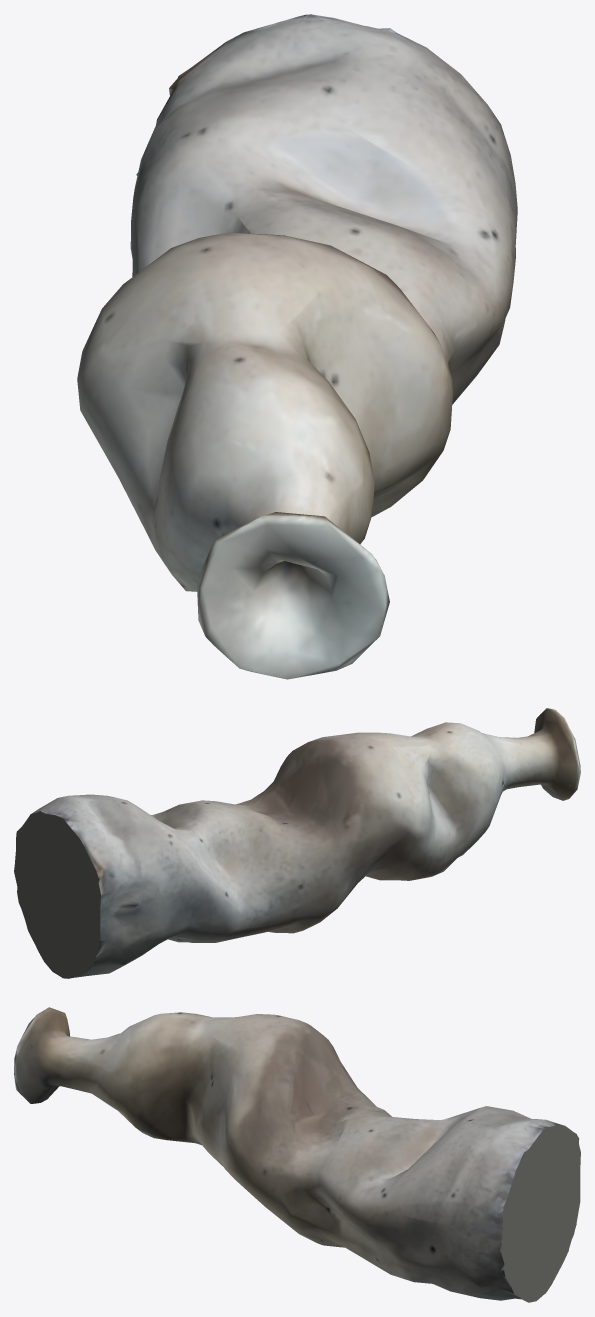
The picture shows the model from 3 angles, top to bottom: view 1: azimuth 30°, elevation 25°; view 2: azimuth 150°, elevation 25°; view 3: azimuth 270°, elevation 25°; orthographic projection. The views are drawn at different scales.
Visible parts, largest first — view 1: Node1; view 2: Node1; view 3: Node1.
Part boxes in pixels (x1,y1,x2,y2): Node1: (77, 14, 517, 679); Node1: (14, 708, 580, 978); Node1: (14, 1007, 580, 1302).
Size of the model in its own units: 0.649 by 0.3174 by 0.8637.
Materials: 1 (1 with a texture image).
